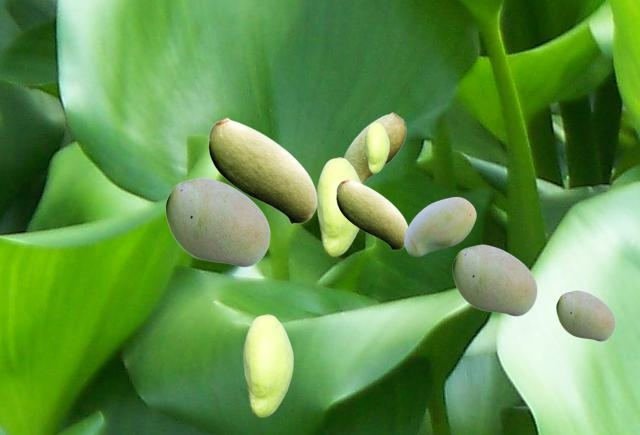green_mango: (208, 117, 316, 223), (165, 177, 269, 266), (452, 244, 536, 315), (336, 178, 407, 249), (243, 314, 292, 416), (343, 112, 405, 183), (316, 157, 360, 255), (404, 197, 475, 255), (556, 290, 614, 340), (365, 122, 388, 172)
